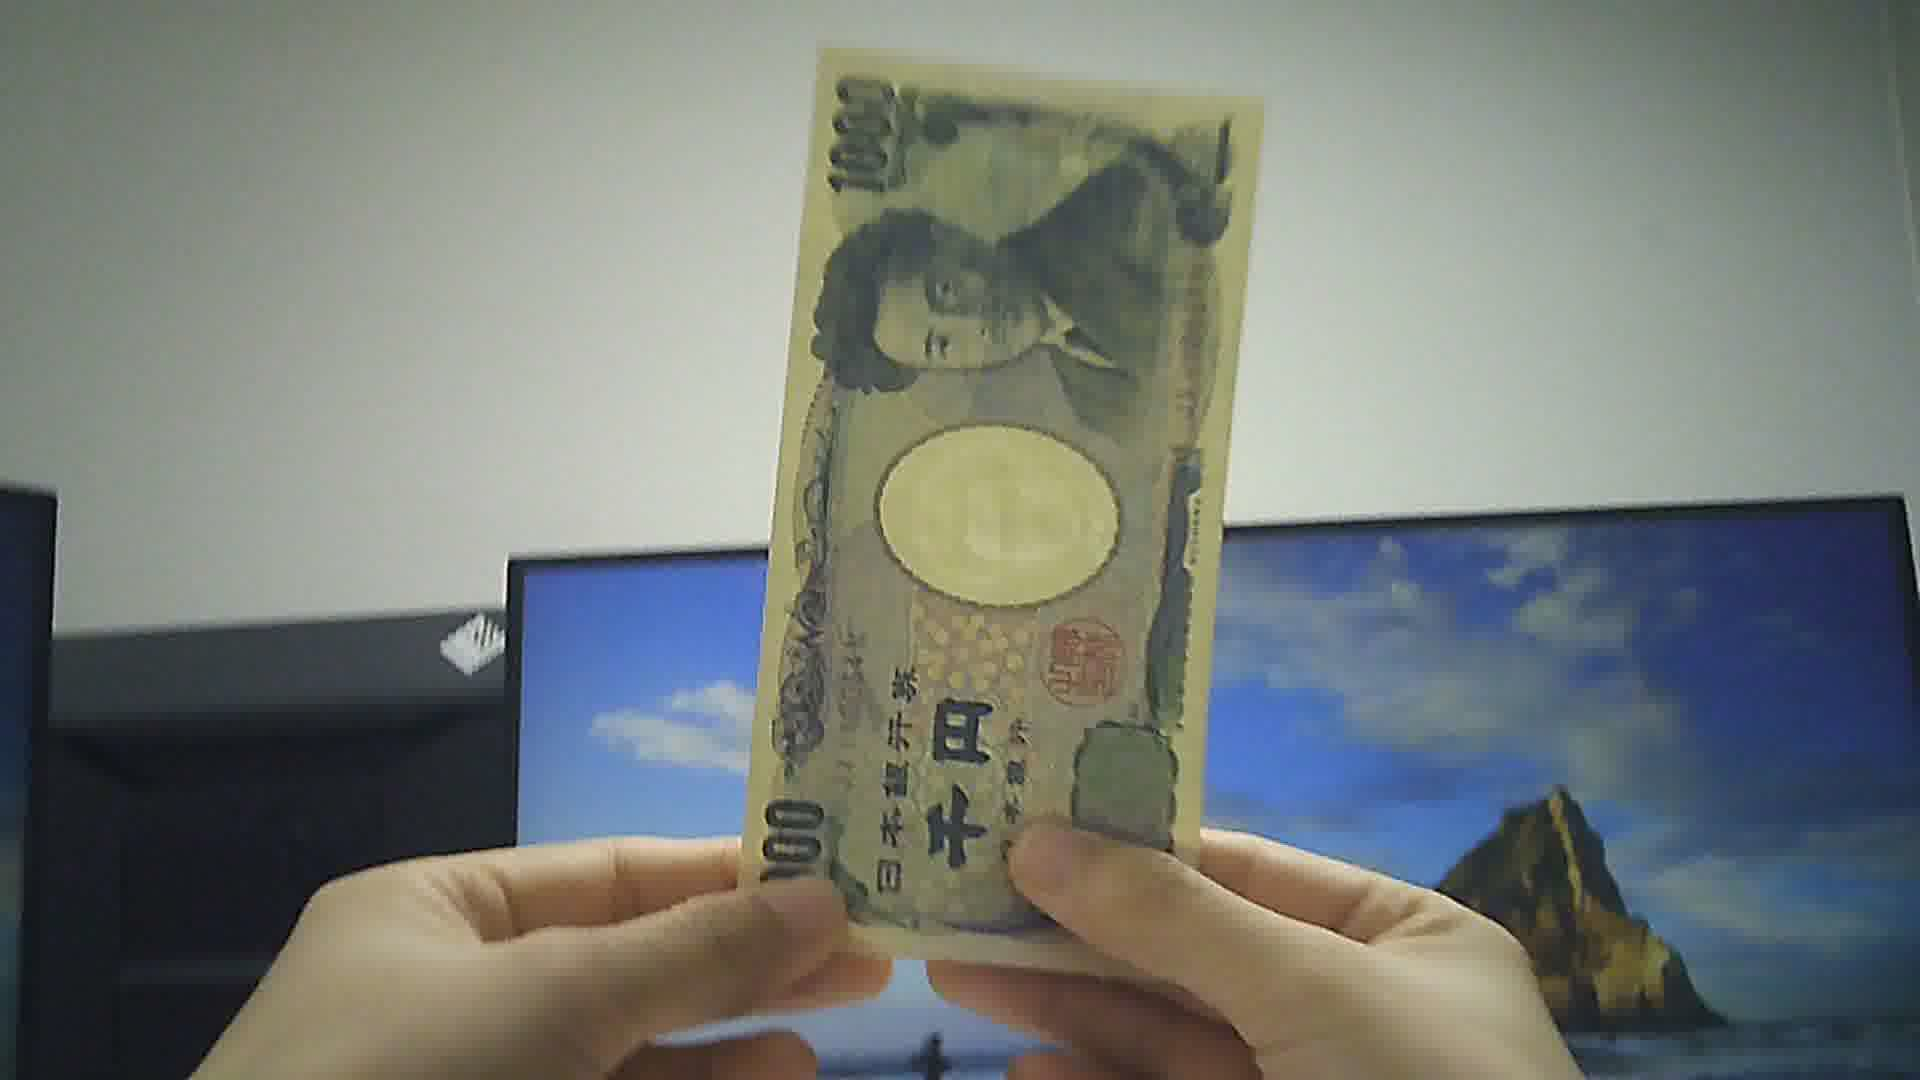1,000 Yen: (737, 15, 1261, 1010)
